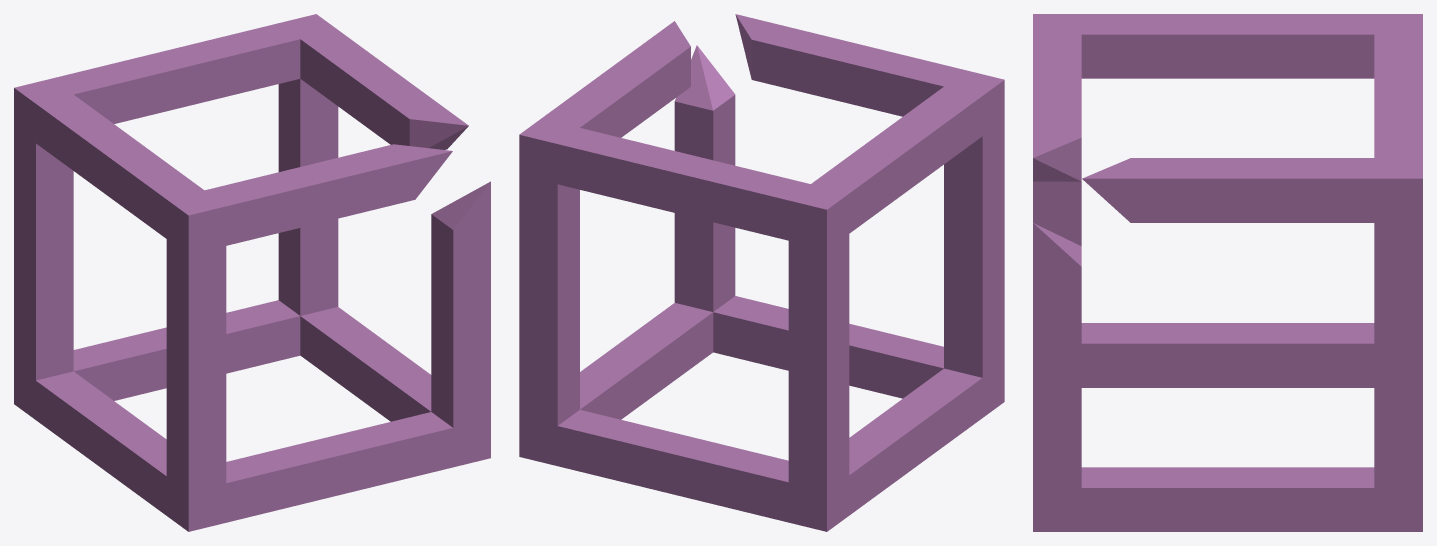
The model's file is kubos.glb.
3 views of the same model, side by side, from view 1: azimuth 30°, elevation 25°; view 2: azimuth 150°, elevation 25°; view 3: azimuth 270°, elevation 25° (orthographic). The views are drawn at different scales.
Bounding box in the file's own units: 1 × 1 × 1.
